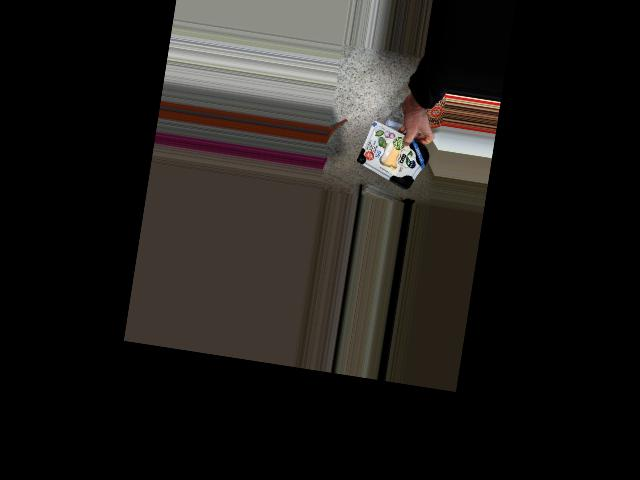cheese: (356, 125, 429, 182)
